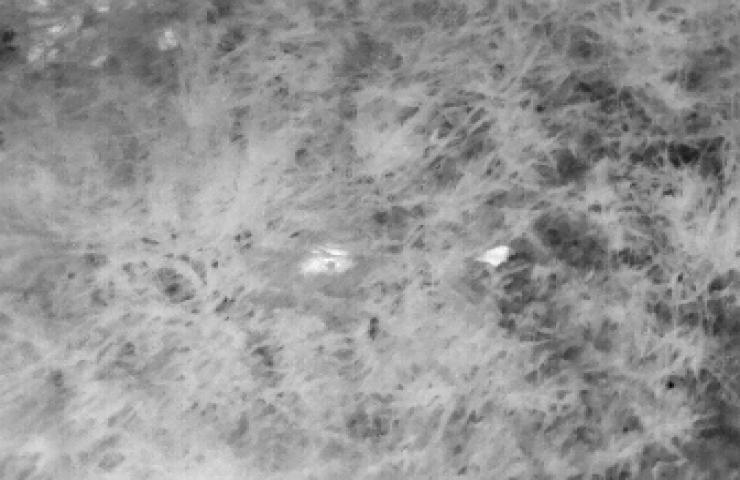landmines: (300, 241, 367, 282)
